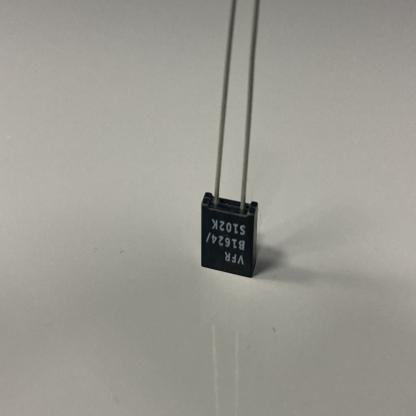SP0000008: (166, 0, 312, 291)
